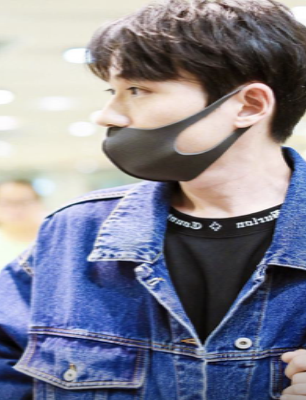mask_weared_incorrect: (94, 72, 226, 182)
